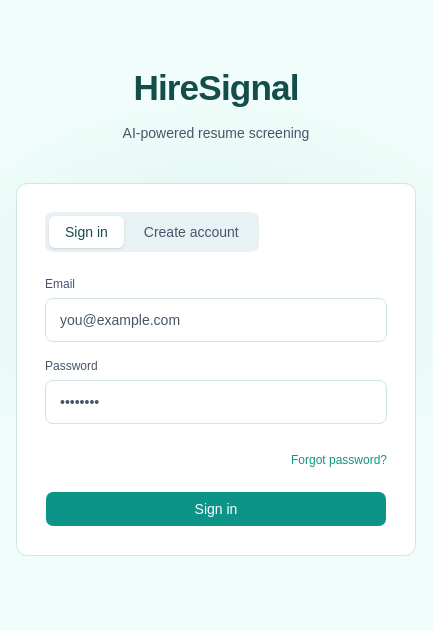
it: AuthPage — email verification gating (Phase 3) › after registering, switches to the login tab and shows the resend option instead of auto-login (Phase 3)
This screenshot has width=433, height=631.
Before switching tabs, only the tab-switcher button has this label.
Click the button "Create account": {"x": 191, "y": 232} [128,216,255,248]
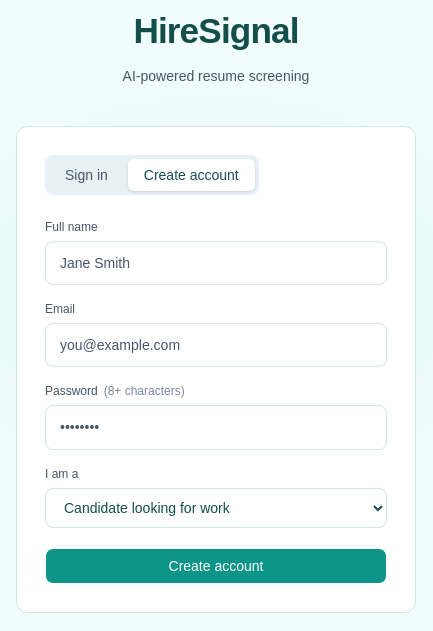
In the field with placeholder "Jane Smith": {"x": 216, "y": 263} [45,241,387,285], type "New User"
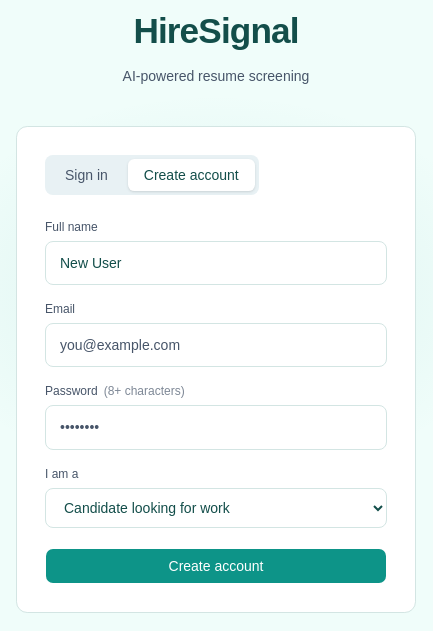
In the field with placeholder "you@example.com": {"x": 216, "y": 345} [45,323,387,367], type "newuser@example.com"
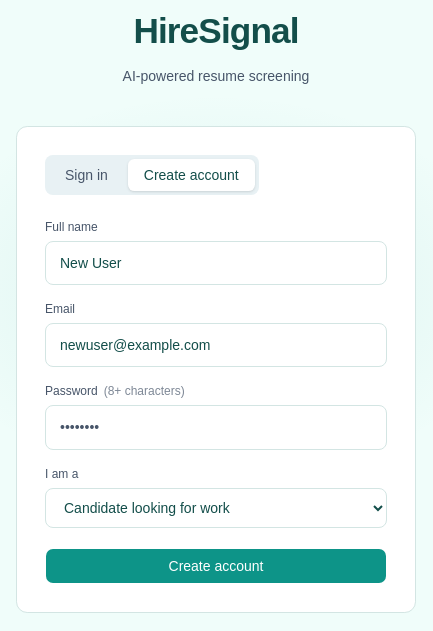
In the password field with placeholder "••••••••": {"x": 216, "y": 428} [45,405,387,450], type "password123"
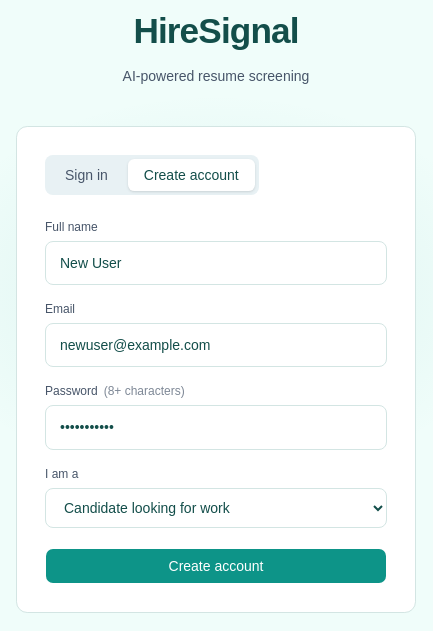
Click the button "Create account" below "I am a": {"x": 216, "y": 566} [45,548,387,584]
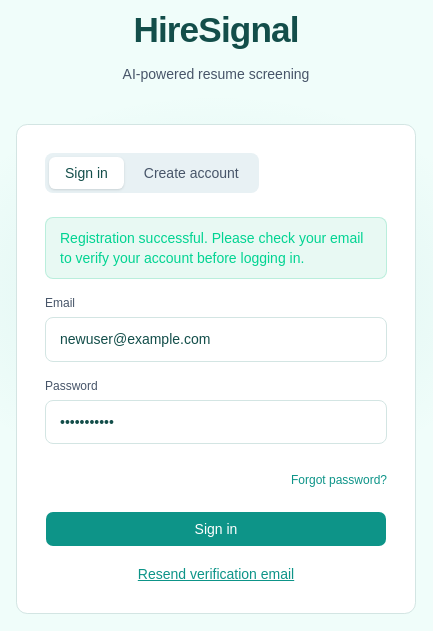
Expected: the text "check your email to verify" is shown, [60,230,364,266]
Expected: the button "Resend verification email" is shown, [138,564,294,584]
Expected: the password field with placeholder "••••••••" is shown, [45,400,387,444]
